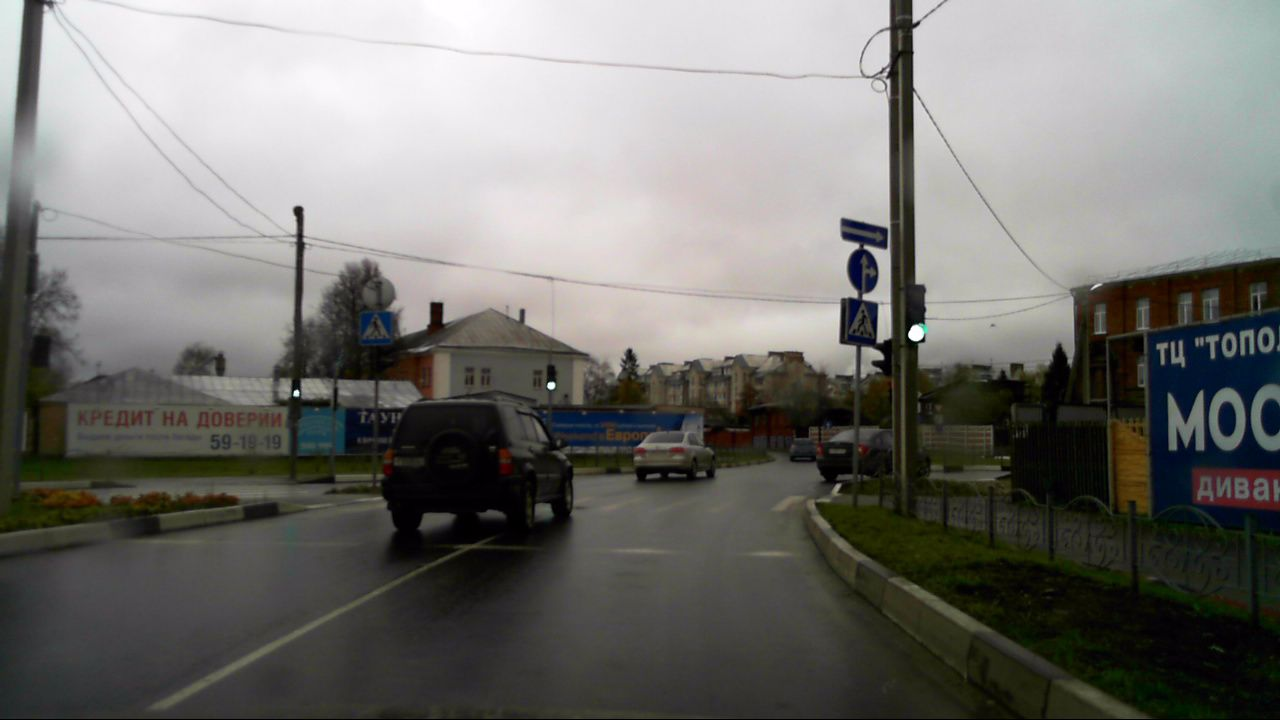One-Way Traffic: (841, 218, 888, 248)
Pedestrian Crossing: (847, 299, 878, 343)
